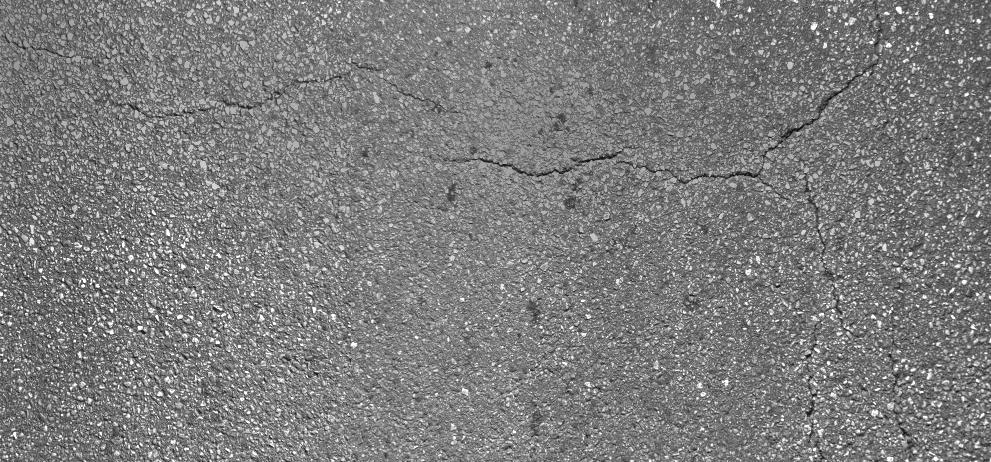crack: (758, 7, 888, 177), (414, 137, 759, 199), (97, 65, 454, 119), (792, 171, 887, 330), (872, 336, 913, 462), (798, 331, 836, 462), (4, 25, 93, 64)
